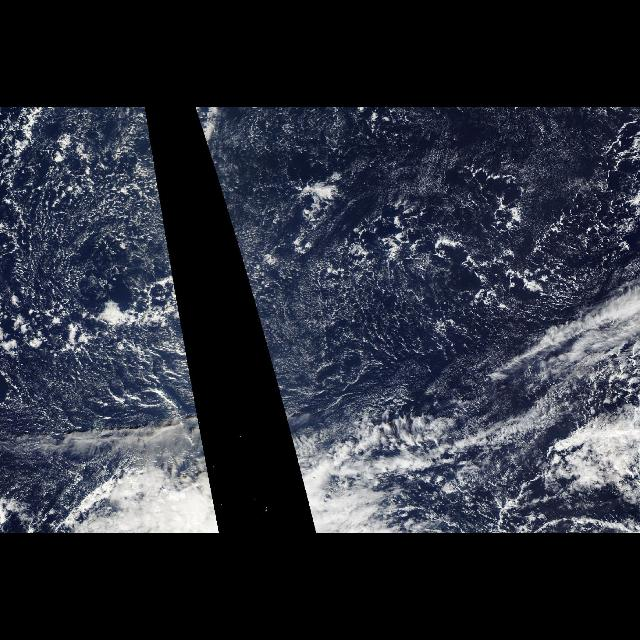Gravel: (292, 123, 640, 371), (1, 112, 189, 428)
Sugar: (198, 114, 602, 423), (0, 112, 198, 470)
